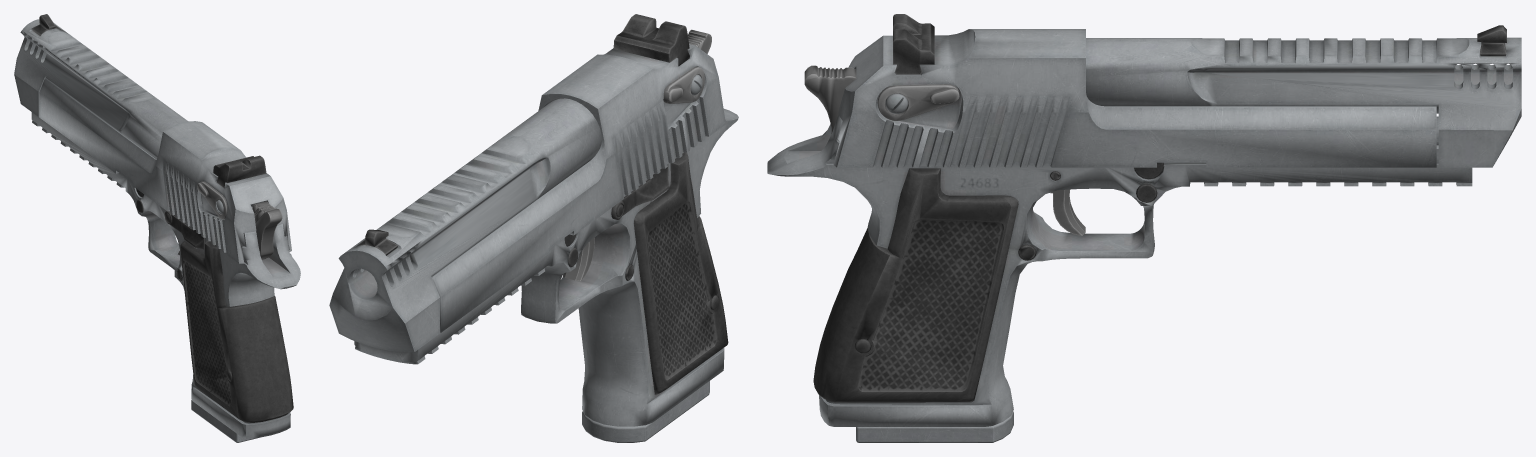
File: warhawk_oga.glb
3 renders of one model, left to right at view 1: azimuth 30°, elevation 25°; view 2: azimuth 150°, elevation 25°; view 3: azimuth 270°, elevation 25°, orthographic. The views are drawn at different scales.
Parts seen in each view (by area): view 1: Body, Slide, Magazine; view 2: Body, Slide, Magazine; view 3: Body, Slide, Magazine.
Boxes of the visible parts, x1,y1,x2,y2 form: Body: [14, 14, 300, 438]; Slide: [39, 78, 291, 263]; Magazine: [191, 207, 260, 442]; Body: [329, 29, 738, 426]; Slide: [432, 14, 725, 332]; Magazine: [582, 381, 709, 442]; Body: [767, 25, 1521, 426]; Slide: [833, 14, 1438, 167]; Magazine: [856, 411, 1013, 442].
Size of the model in its own units: 0.0353 by 0.1584 by 0.27.
Materials: 7 (7 with a texture image).
